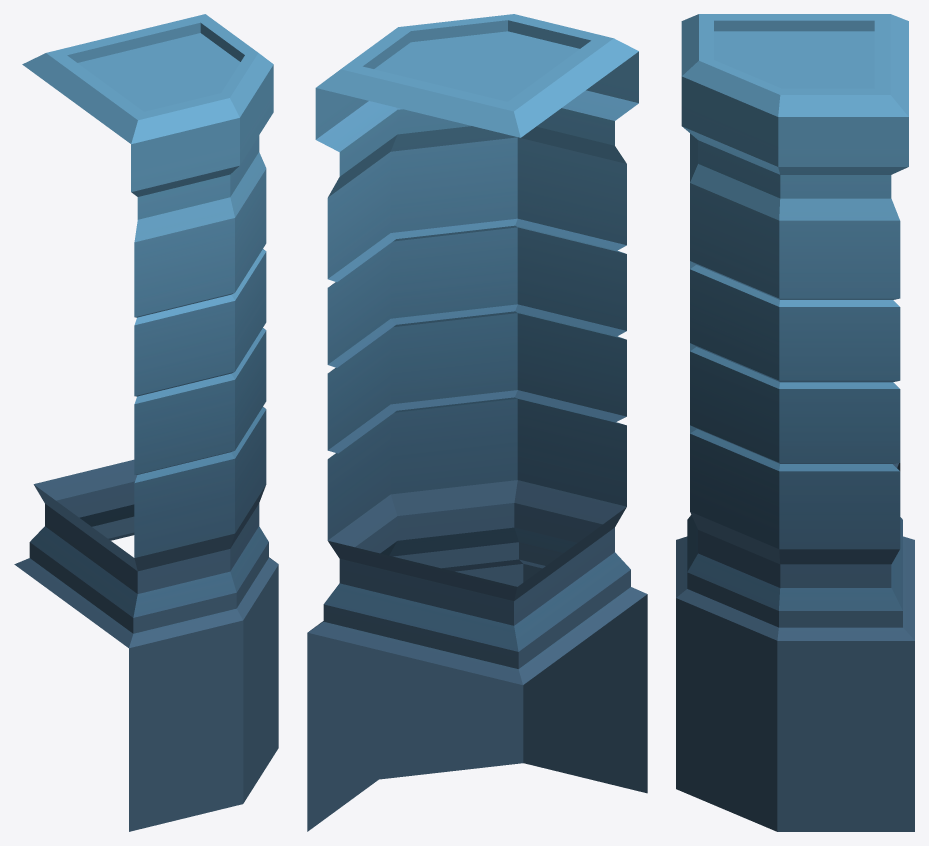
File: Pillar 04.002.fbx
The picture shows the model from 3 angles, left to right: view 1: azimuth 30°, elevation 25°; view 2: azimuth 150°, elevation 25°; view 3: azimuth 270°, elevation 25°; orthographic projection. The views are drawn at different scales.
Parts seen in each view (by area): view 1: Pillar 04.002; view 2: Pillar 04.002; view 3: Pillar 04.002.
Part boxes in pixels (x1,y1,x2,y2): Pillar 04.002: [14, 14, 278, 831]; Pillar 04.002: [307, 14, 647, 831]; Pillar 04.002: [676, 14, 914, 831].
Bounding box in the file's own units: 173 × 581 × 173.
